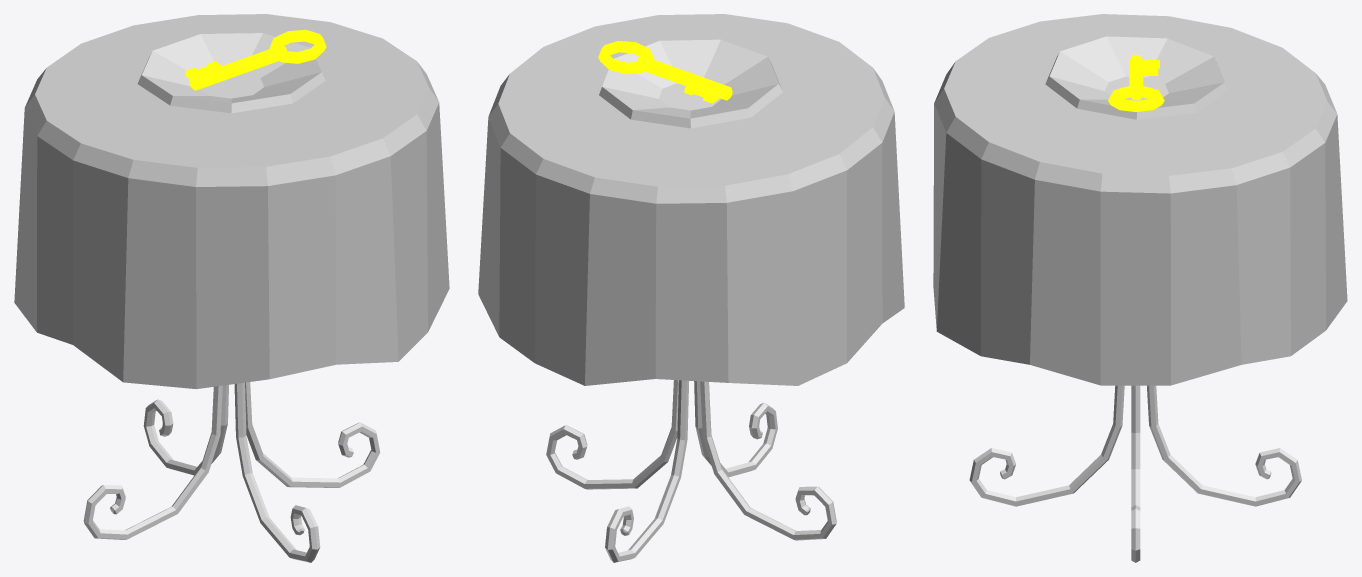
Rendered from Table6.fbx.
The picture shows the model from 3 angles, left to right: view 1: azimuth 30°, elevation 25°; view 2: azimuth 150°, elevation 25°; view 3: azimuth 270°, elevation 25°; orthographic projection. The views are drawn at different scales.
Parts seen in each view (by area): view 1: Cylinder; view 2: Cylinder; view 3: Cylinder.
Part boxes in pixels (bbox=[...]): Cylinder: bbox=[14, 14, 449, 562]; Cylinder: bbox=[478, 14, 904, 562]; Cylinder: bbox=[933, 14, 1347, 562].
Bounding box in the file's own units: 153 × 188 × 158.
